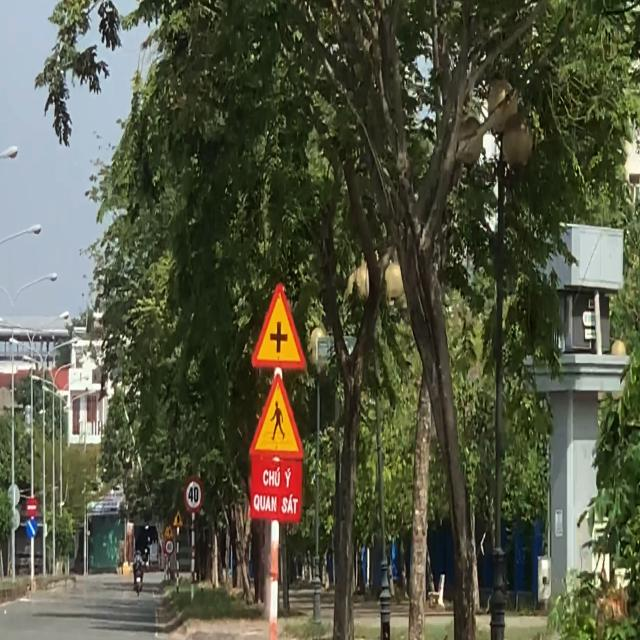Cam nguoc chieu: (26, 497, 37, 517)
Duong giao nhau: (251, 280, 308, 372)
Hieu lenh: (26, 518, 38, 538)
Nguoi di bo cat ngang: (248, 372, 305, 461)
Toc do toi da: (183, 475, 204, 514), (164, 538, 174, 556)
